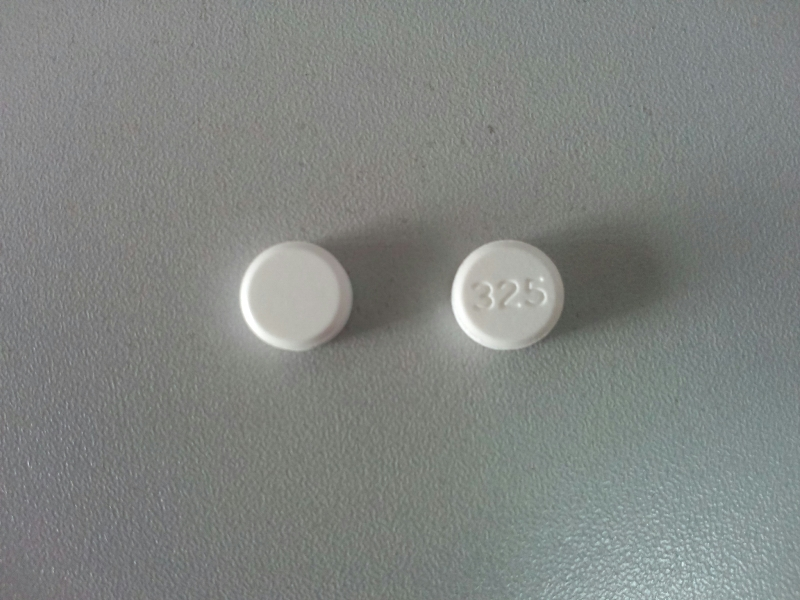Acetaminophen 325 MG Oral Tablet: (225, 229, 364, 356), (446, 237, 568, 355)
